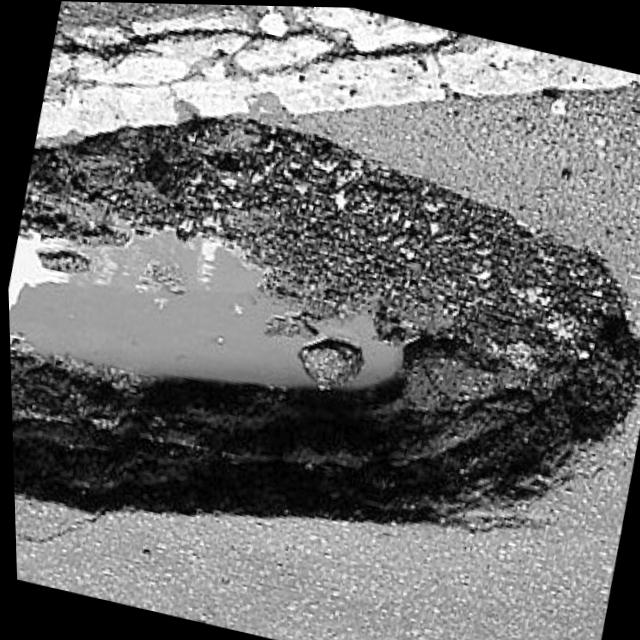pathole: (8, 117, 640, 520), (7, 231, 311, 383), (17, 150, 131, 250), (316, 316, 399, 387), (7, 235, 67, 306), (7, 237, 67, 306), (36, 255, 87, 274)
